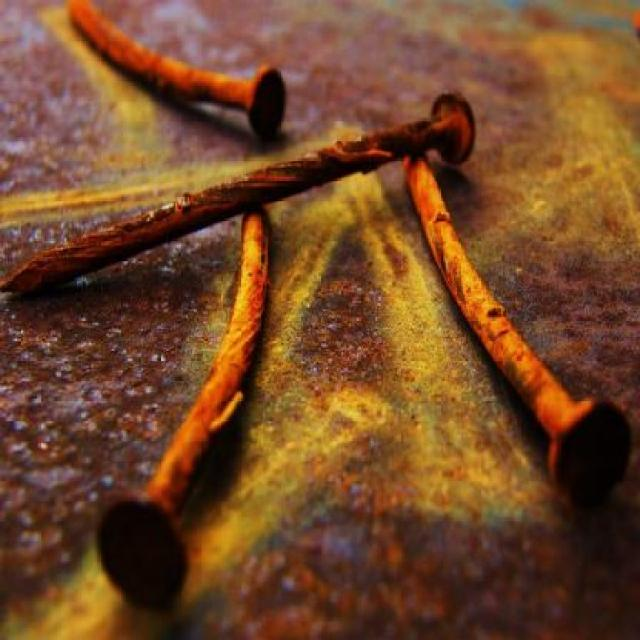corrosion: (8, 0, 629, 609)
